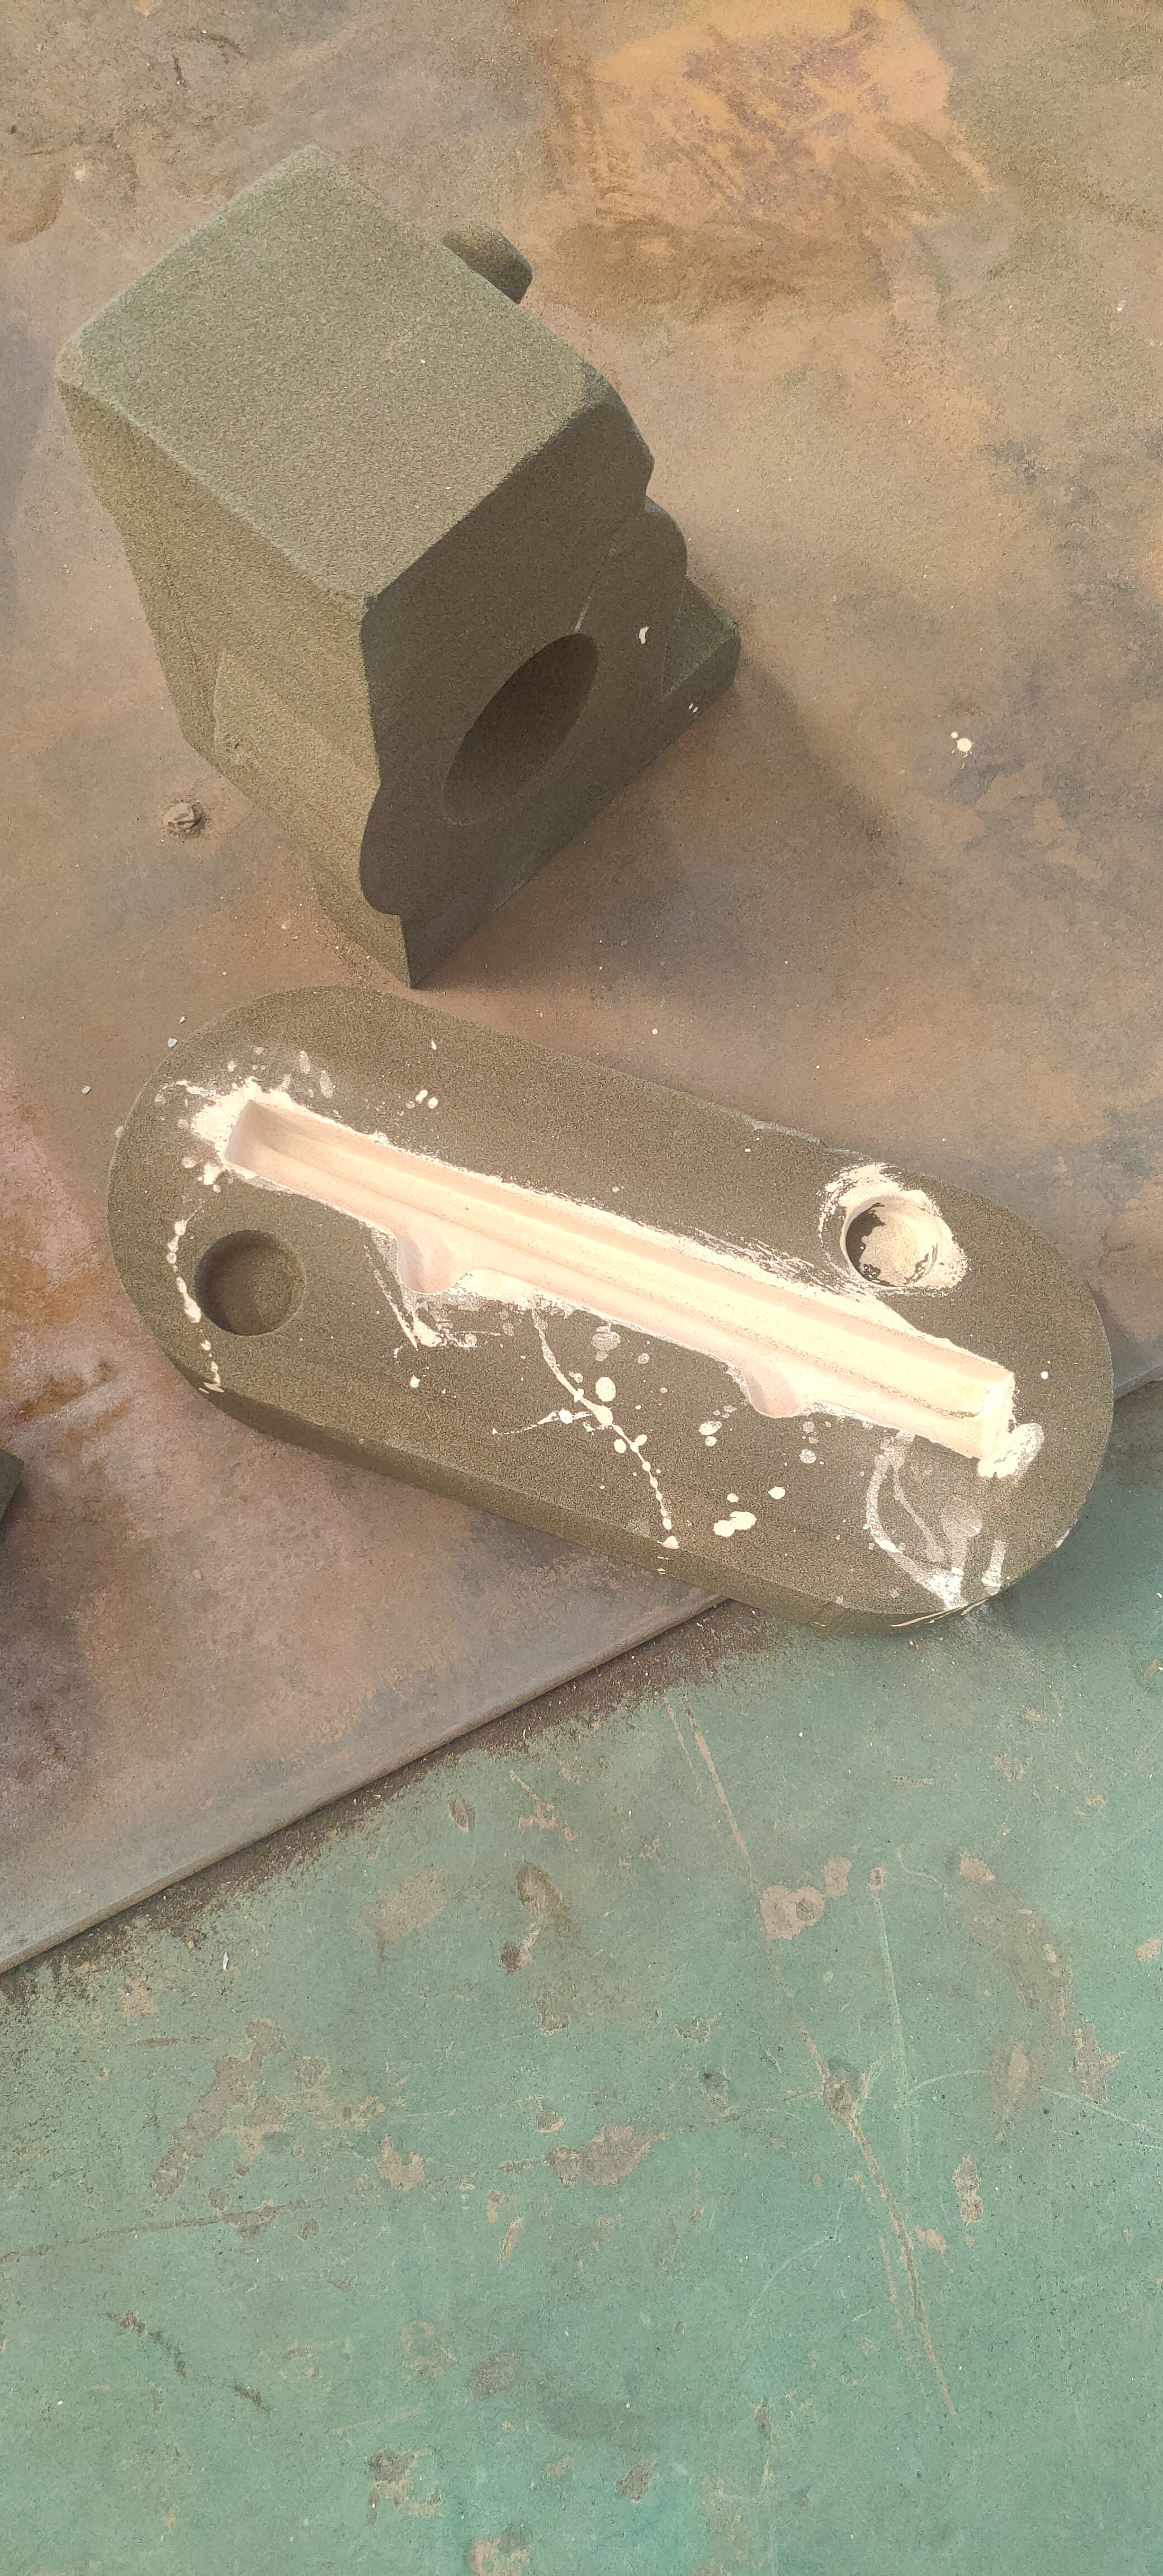pouring hole: (444, 631, 601, 828)
